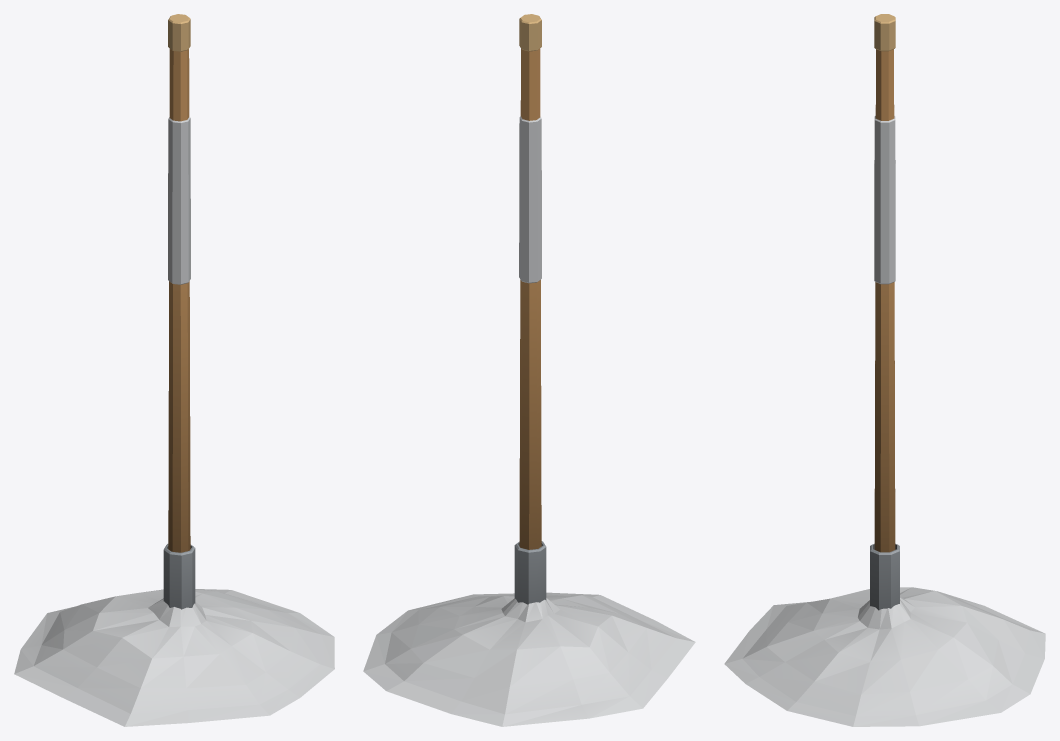
File: marker.glb
3 views of the same model, side by side, from view 1: azimuth 30°, elevation 25°; view 2: azimuth 150°, elevation 25°; view 3: azimuth 270°, elevation 25° (orthographic).
Visible parts, largest first — view 1: marker; view 2: marker; view 3: marker.
Boxes of the visible parts, x1,y1,x2,y2 form: marker: (14, 14, 334, 726); marker: (363, 14, 695, 726); marker: (724, 14, 1045, 726).
Bounding box in the file's own units: 1 × 2.2 × 1.
